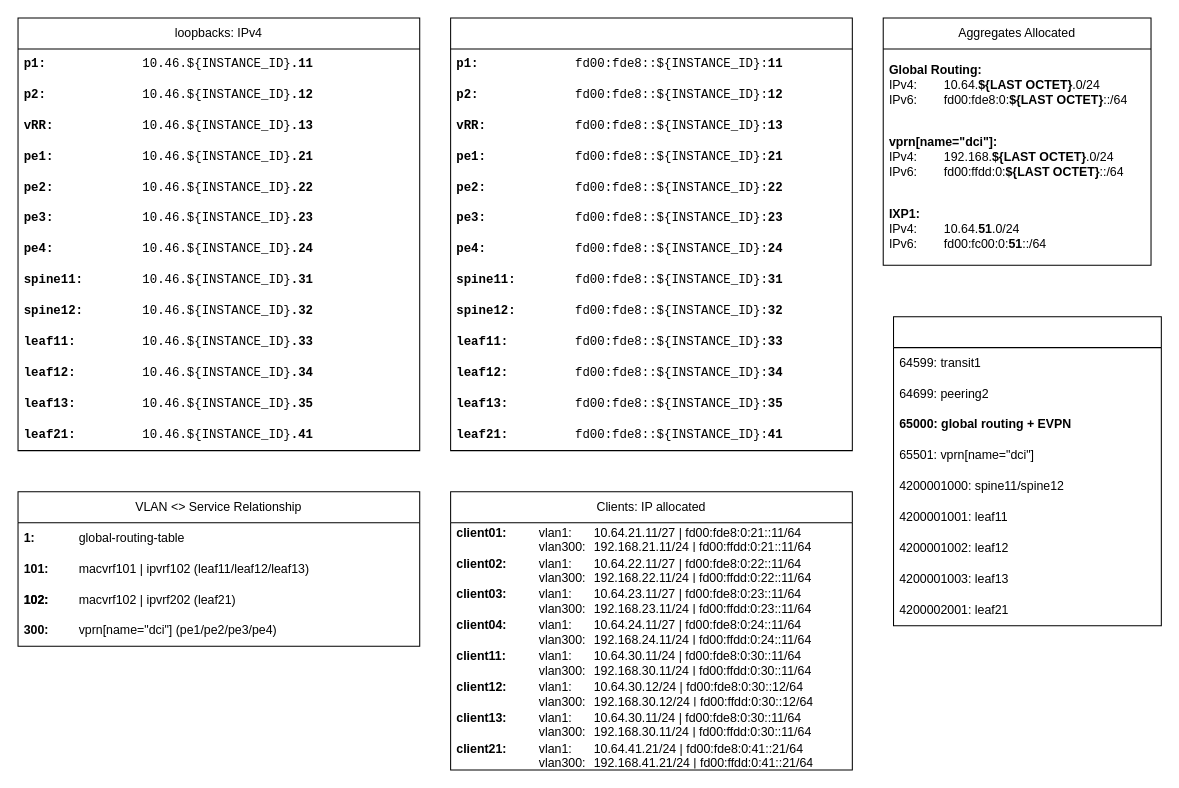
This 1179x788 diagram has some shape labels left out. The shapes that lost their labels are listed below. From the top down, each one's box as (x1, y1, x2, y2) in pixels, then its label:
(450, 17, 852, 451): loopbacks: IPv6
(892, 316, 1161, 626): ASNs allocated
